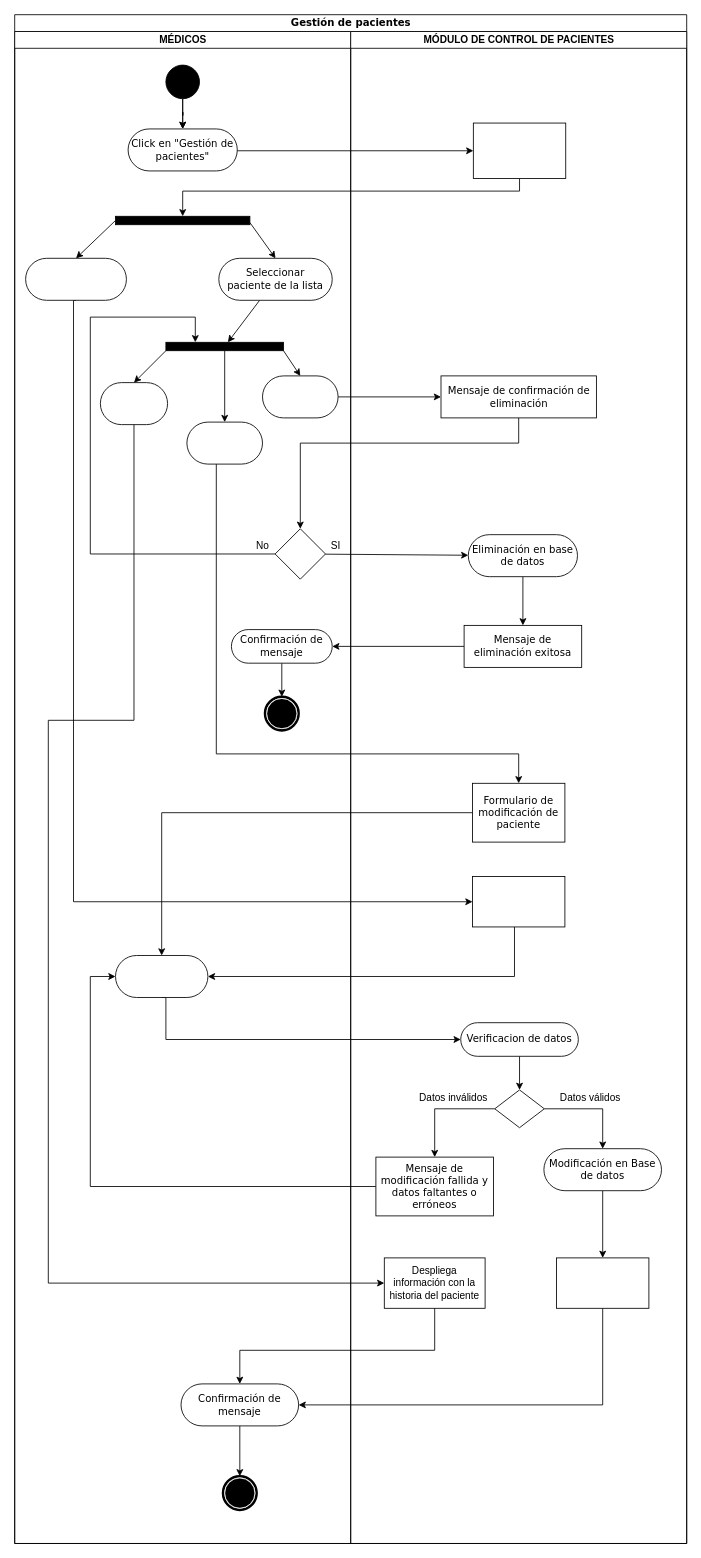
Some shapes in this 701 by 1558 pixel diagram are drawn without their labels. Each missing label, with the centre of its shape:
Click en "Agregar nuevo paciente": the point at 75,278
Click en "Consultar Historia": the point at 134,403
Click en "Eliminar paciente": the point at 300,396
Click en "Modificar Paciente": the point at 224,442
Formulario de creación de paciente: the point at 518,901
Mensaje de modificación exitosa: the point at 602,1282
Menú de Gestión con pacientes disponibles: the point at 519,150
Rellenar campos de datos: the point at 161,976
